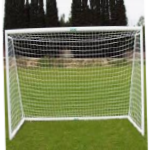goals: (4, 23, 147, 139)
